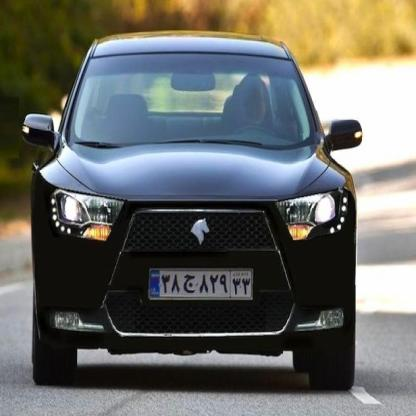Car: (21, 23, 358, 400)
